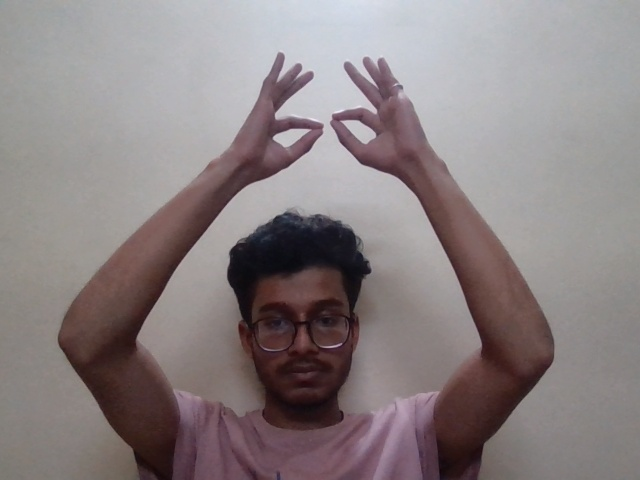nice: (219, 39, 470, 248)
